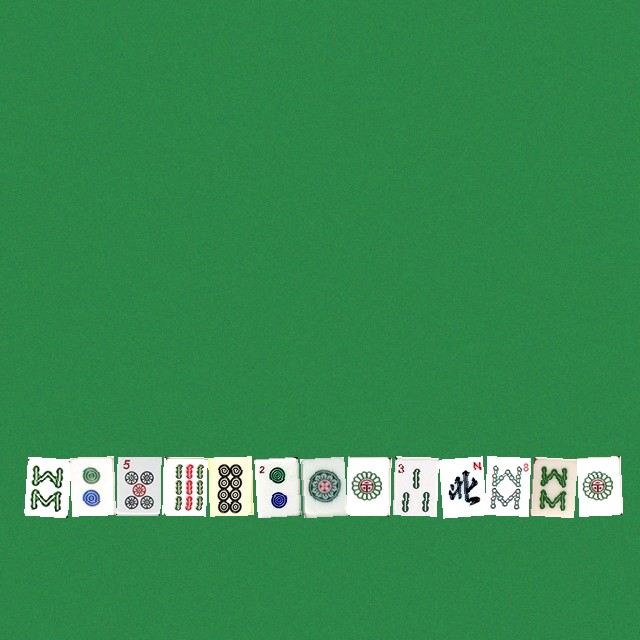tile: (24, 456, 68, 515), (70, 456, 114, 515), (116, 456, 160, 515), (162, 456, 206, 515), (208, 456, 252, 515), (254, 456, 298, 515), (300, 456, 344, 515), (346, 456, 390, 515), (392, 456, 436, 515), (438, 456, 482, 515), (484, 456, 528, 515), (530, 456, 574, 515), (576, 456, 620, 515)
